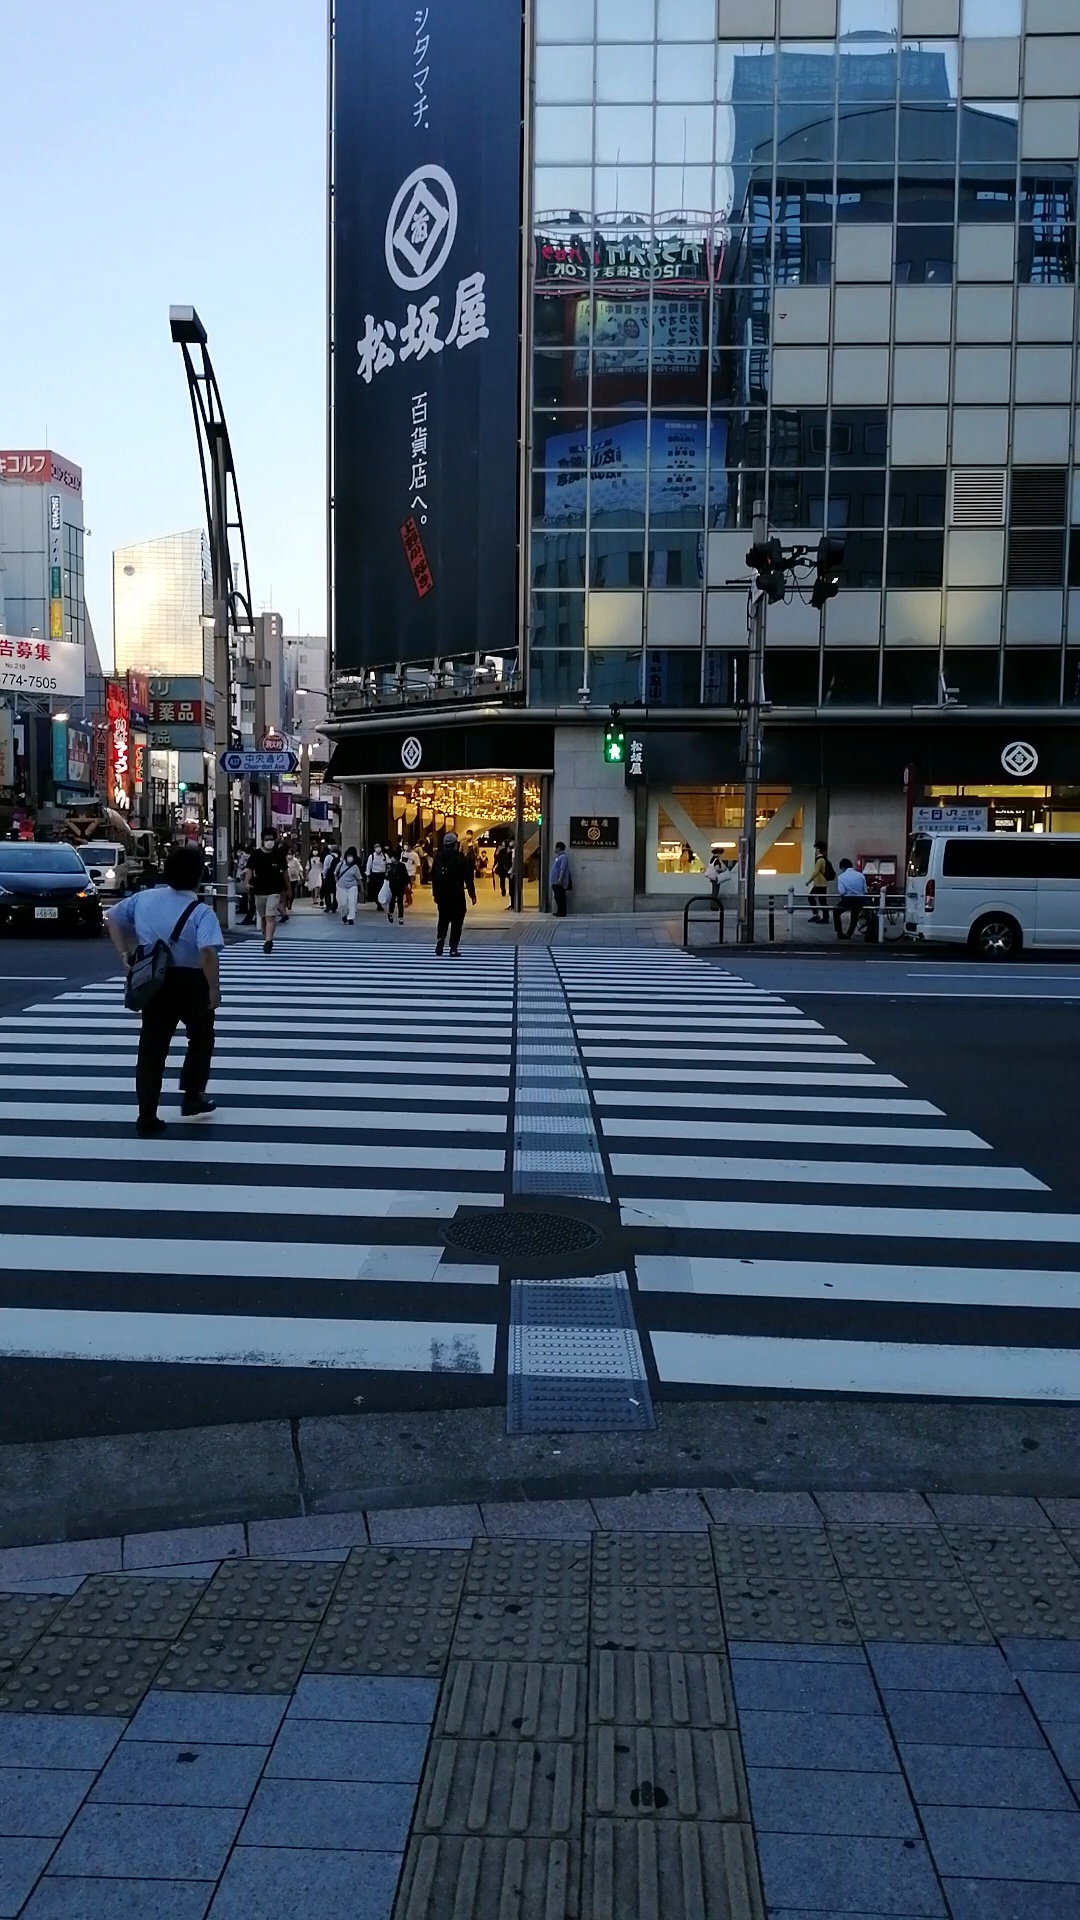green: (603, 719, 626, 766)
